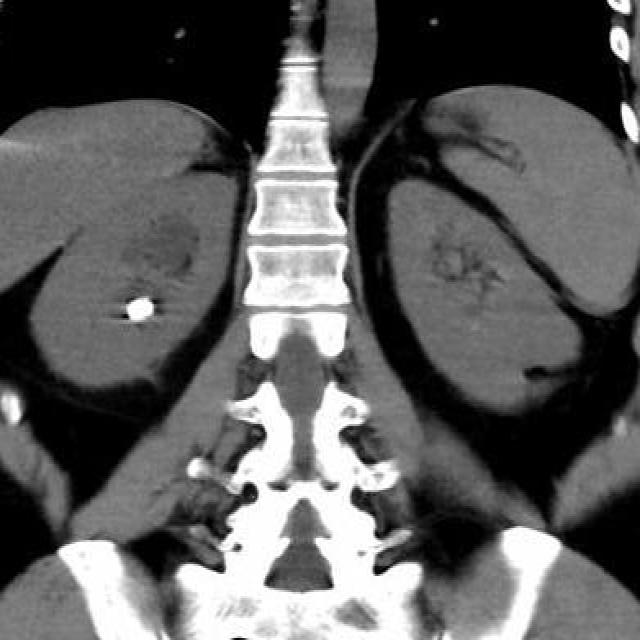Tas_Var: (125, 291, 158, 327)
